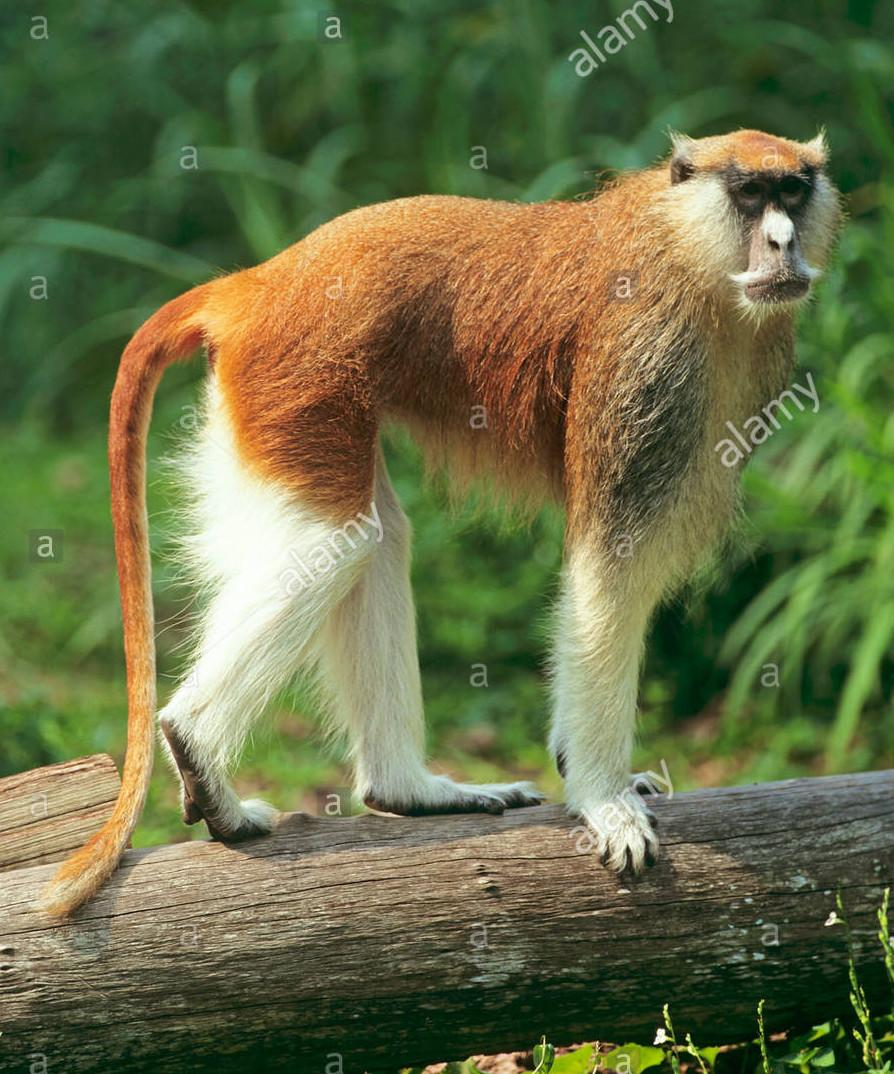monkey: (158, 133, 841, 844)
